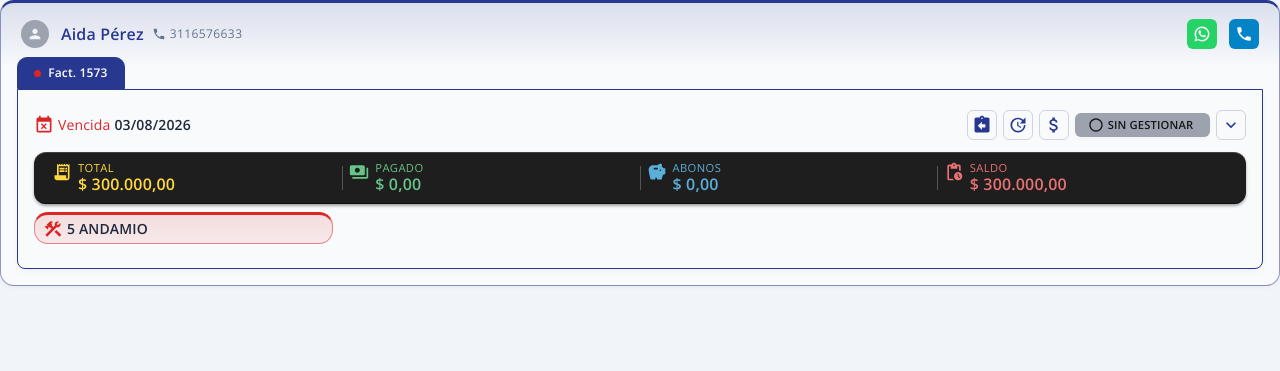
Test: ClienteSeguimientoCard — lo que muestra › al abrir la tarjeta el equipo pasa a su ficha
The image size is (1280, 371).
Expected: the text "5 ANDAMIO" is shown, x1=67 y1=219 x2=148 y2=239
Expected: the text "Vencido" is not shown
Click the button named "Mostrar factura" at [1231, 125], box x1=1216 y1=110 x2=1246 y2=140
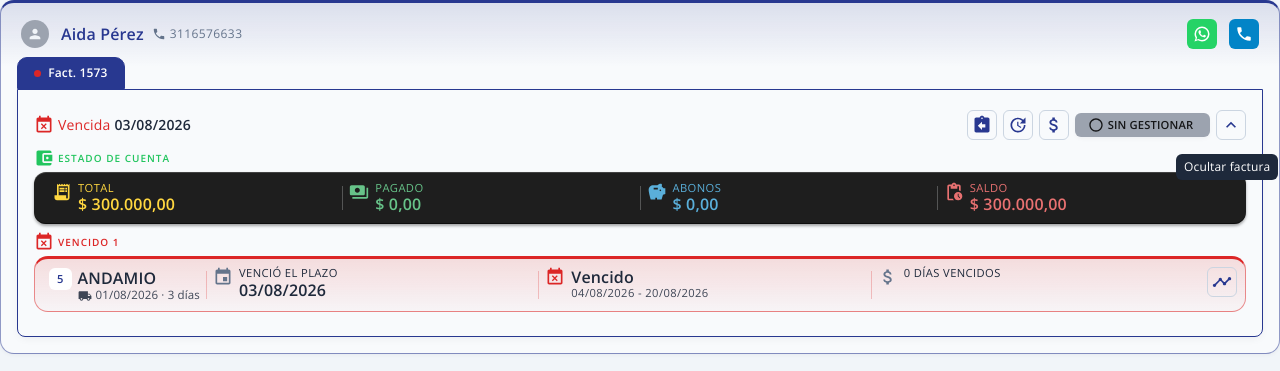
Expected: the text "5" is shown, x1=57 y1=271 x2=64 y2=286
Result: the text "ANDAMIO" is shown at x1=78 y1=267 x2=156 y2=289
Result: the text "Vencido" is shown at x1=571 y1=266 x2=634 y2=288
